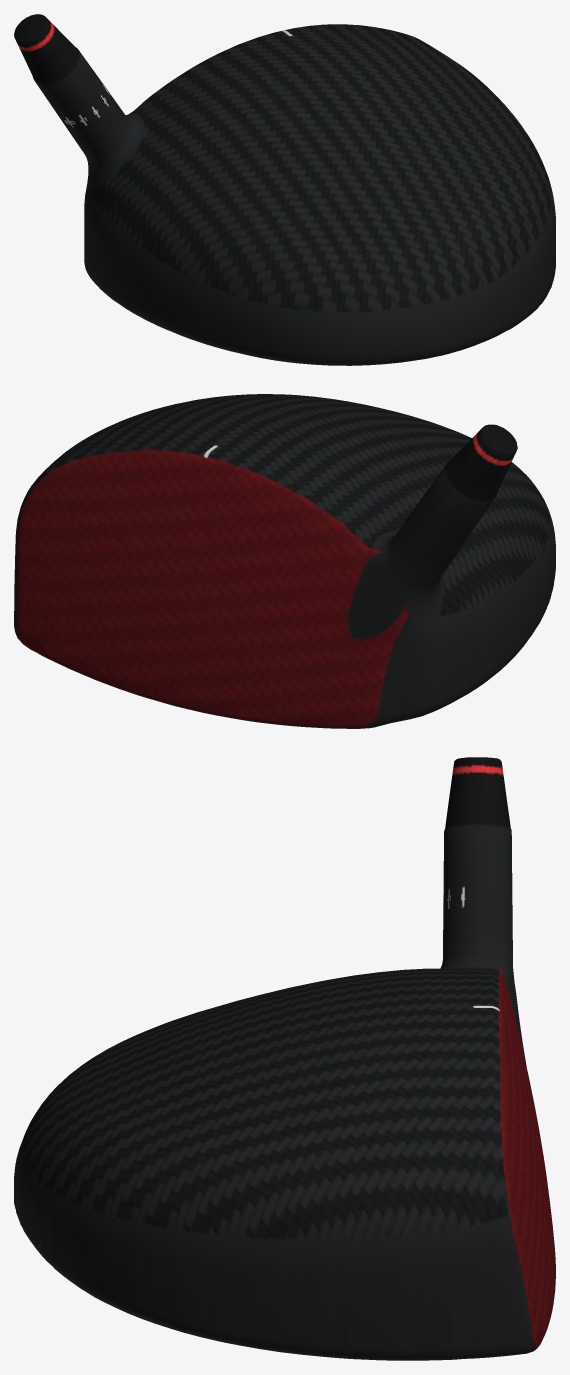
3 views of the same model, one above another, from view 1: azimuth 30°, elevation 25°; view 2: azimuth 150°, elevation 25°; view 3: azimuth 270°, elevation 25° (orthographic). The views are drawn at different scales.
Parts seen in each view (by area): view 1: head; view 2: head; view 3: head.
Part boxes in pixels (bbox=[...]): head: bbox=[14, 14, 555, 365]; head: bbox=[14, 394, 555, 728]; head: bbox=[14, 757, 555, 1360].
Bounding box in the file's own units: 0.1345 × 0.0835 × 0.1106.
1 material, 1 textured.
